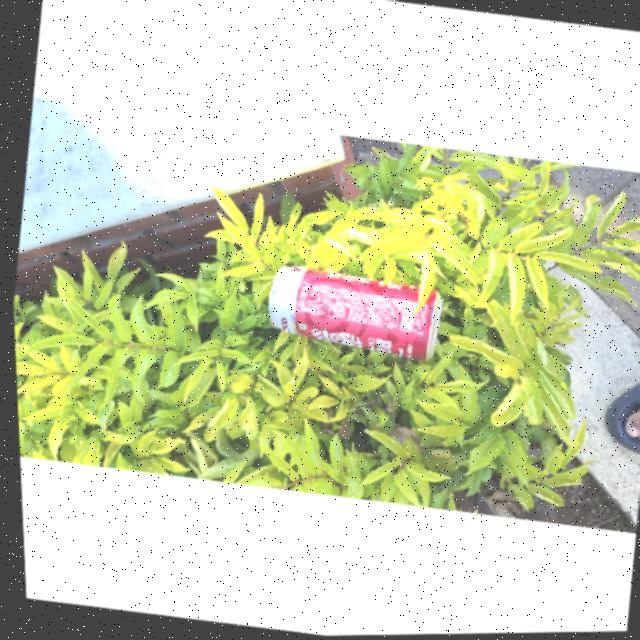Coolberg: (256, 261, 443, 364)
